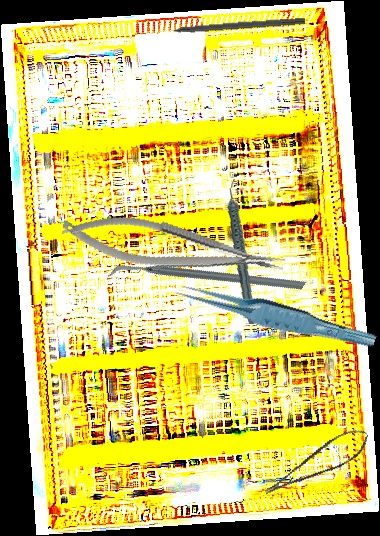Chopper: (107, 195, 307, 363)
Handpiece: (216, 178, 269, 325)
Hook Surgical: (155, 15, 306, 36)
Micro Scissor: (256, 424, 375, 498)
Needle Holder: (58, 201, 288, 295)
Tissue Forceps: (172, 267, 378, 363)
